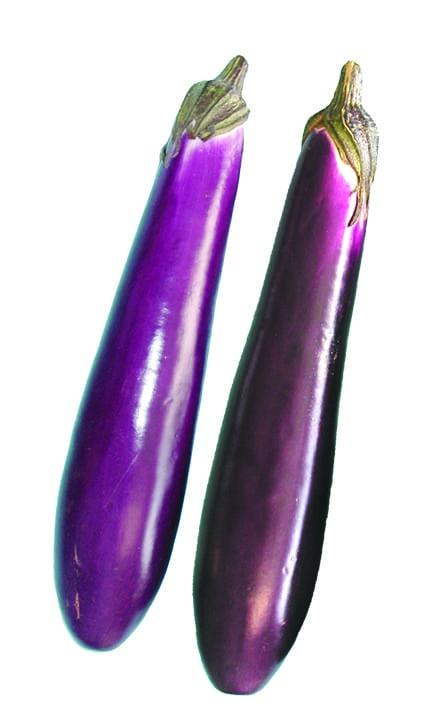eggplant: (194, 61, 377, 692), (55, 56, 248, 649)
